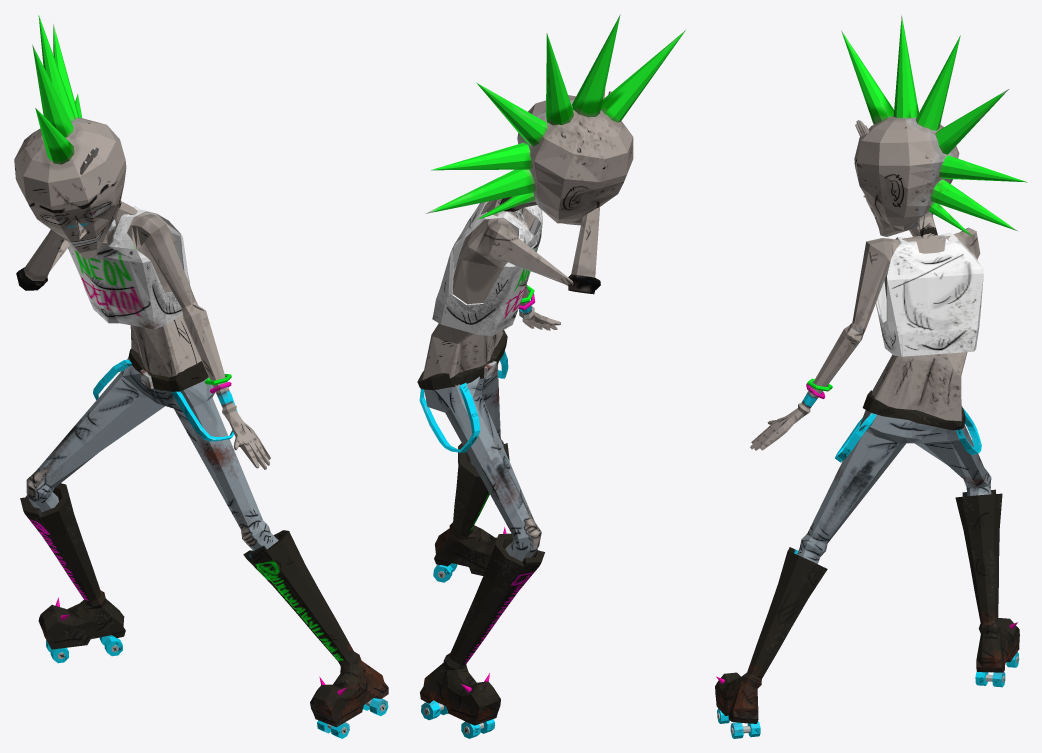
File: punkAnimation_000079.obj
The picture shows the model from 3 angles, left to right: view 1: azimuth 30°, elevation 25°; view 2: azimuth 150°, elevation 25°; view 3: azimuth 270°, elevation 25°; orthographic projection. The views are drawn at different scales.
Visible parts, largest first — view 1: Cube.004_Cube.003; view 2: Cube.004_Cube.003; view 3: Cube.004_Cube.003.
Part boxes in pixels (x1,y1,x2,y2): Cube.004_Cube.003: (14, 15, 388, 738); Cube.004_Cube.003: (417, 14, 686, 738); Cube.004_Cube.003: (715, 15, 1027, 738).
Bounding box in the file's own units: 3.08 × 6.72 × 3.1.
